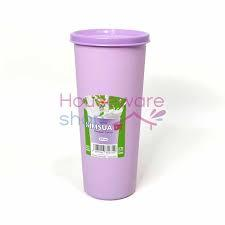BIODEGRADABLE: (49, 24, 162, 209)
